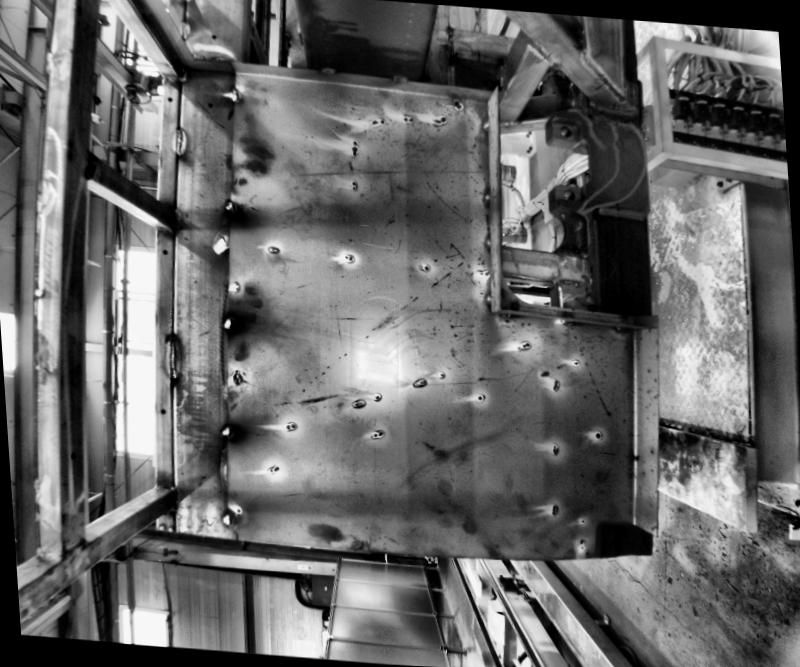hole: (562, 188, 576, 202), (558, 123, 572, 136), (165, 95, 172, 102), (160, 248, 166, 256), (210, 33, 218, 39), (207, 100, 212, 107), (162, 407, 166, 414), (170, 498, 175, 502)
welding: (580, 54, 625, 100), (524, 38, 552, 65), (167, 482, 182, 520), (168, 332, 178, 384), (219, 312, 235, 330), (174, 126, 182, 158), (177, 19, 189, 39), (219, 424, 233, 440), (228, 87, 240, 104), (482, 186, 492, 205), (220, 512, 232, 527), (224, 200, 236, 214), (390, 74, 408, 82), (320, 67, 338, 75), (556, 318, 574, 326), (612, 325, 630, 332), (484, 234, 490, 248), (480, 117, 486, 130), (498, 310, 510, 316), (486, 292, 491, 304)
